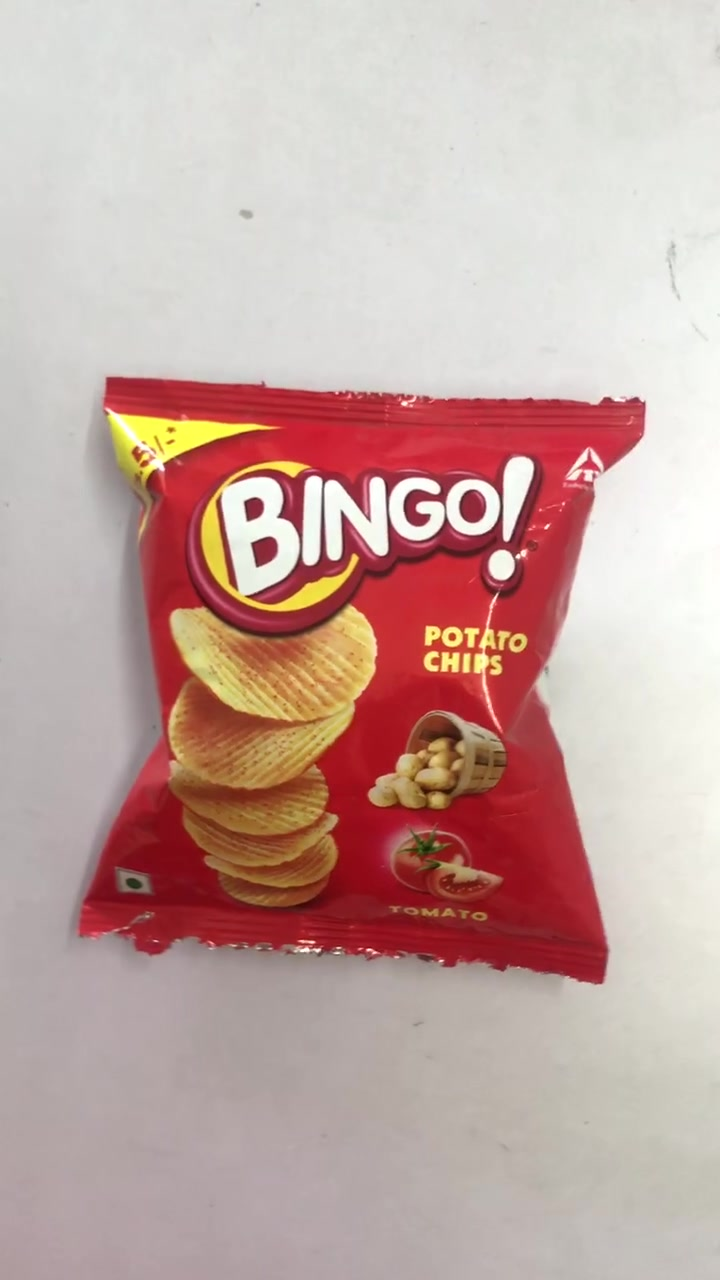Bingo: (87, 374, 644, 982)
